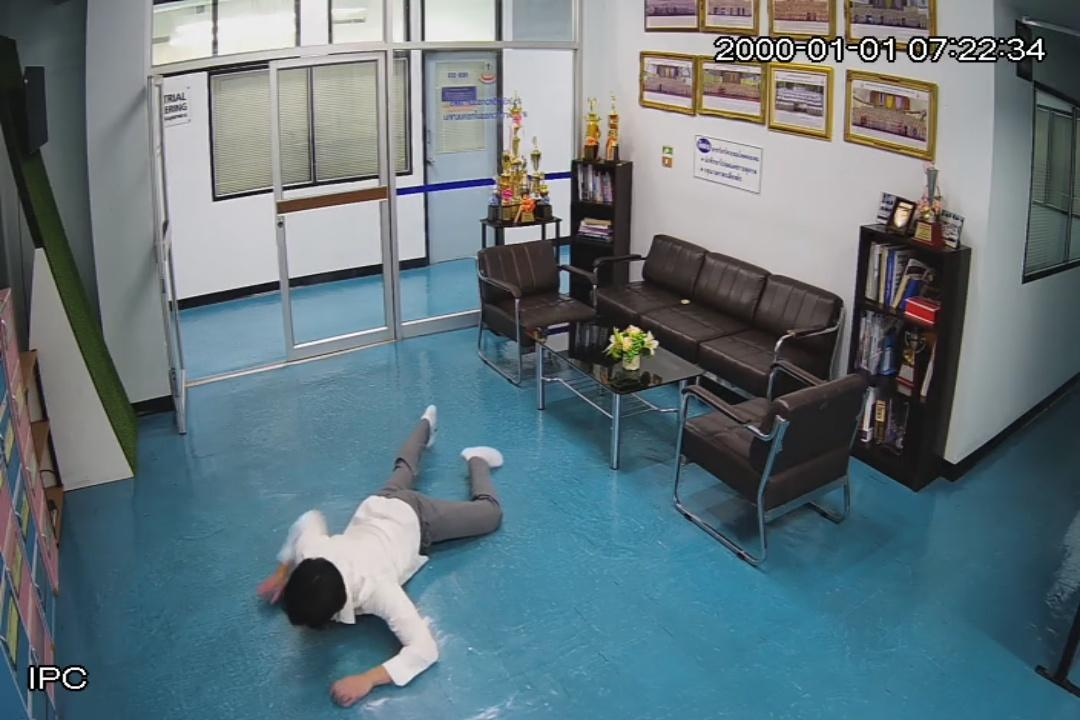fall: (268, 394, 514, 714)
